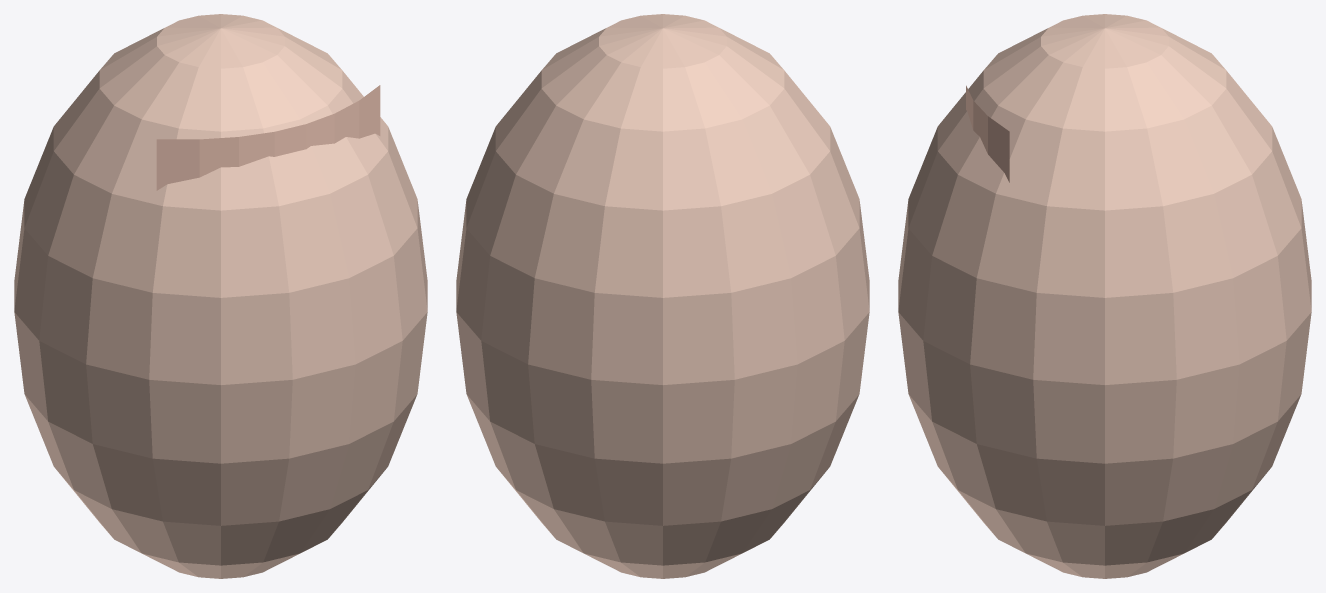
File: tongue_exercise_preview.glb
The picture shows the model from 3 angles, left to right: view 1: azimuth 30°, elevation 25°; view 2: azimuth 150°, elevation 25°; view 3: azimuth 270°, elevation 25°; orthographic projection.
Parts seen in each view (by area): view 1: transparent_mouth_context, arched_palate; view 2: transparent_mouth_context; view 3: transparent_mouth_context, arched_palate.
Part boxes in pixels (x1,y1,x2,y2): transparent_mouth_context: [14, 14, 427, 578]; arched_palate: [156, 85, 380, 190]; transparent_mouth_context: [456, 14, 869, 578]; transparent_mouth_context: [898, 14, 1311, 578]; arched_palate: [966, 85, 1009, 182].
Bounding box in the file's own units: 1.56 × 2.2 × 1.54.
